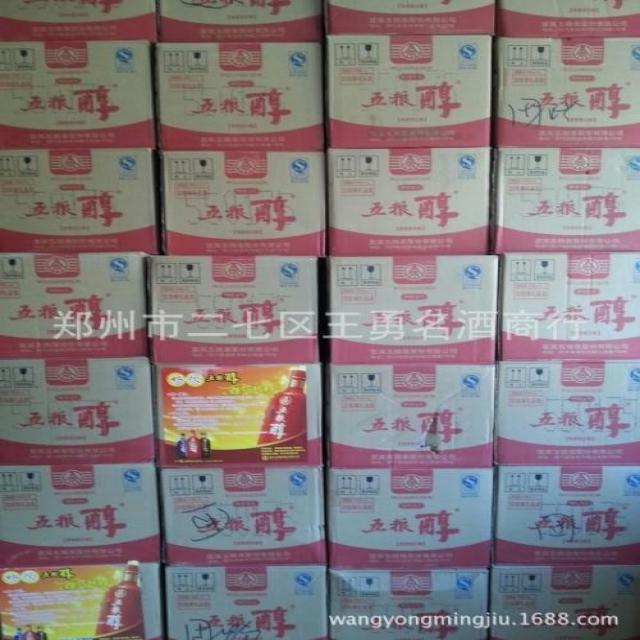box: (323, 253, 501, 365), (150, 41, 325, 151), (324, 35, 491, 148), (149, 255, 321, 362), (322, 363, 496, 468), (157, 151, 329, 255), (327, 148, 494, 255), (156, 363, 324, 467), (0, 38, 157, 149), (325, 469, 494, 570), (488, 35, 639, 148), (157, 468, 327, 567), (0, 464, 165, 566), (0, 148, 157, 254), (0, 357, 155, 464), (0, 254, 152, 359), (498, 249, 639, 362), (492, 149, 639, 252), (495, 360, 639, 465), (491, 466, 639, 565), (165, 565, 330, 638), (328, 568, 489, 639), (485, 565, 639, 639), (157, 0, 324, 42), (0, 1, 161, 40), (321, 0, 495, 35), (496, 0, 639, 39)
